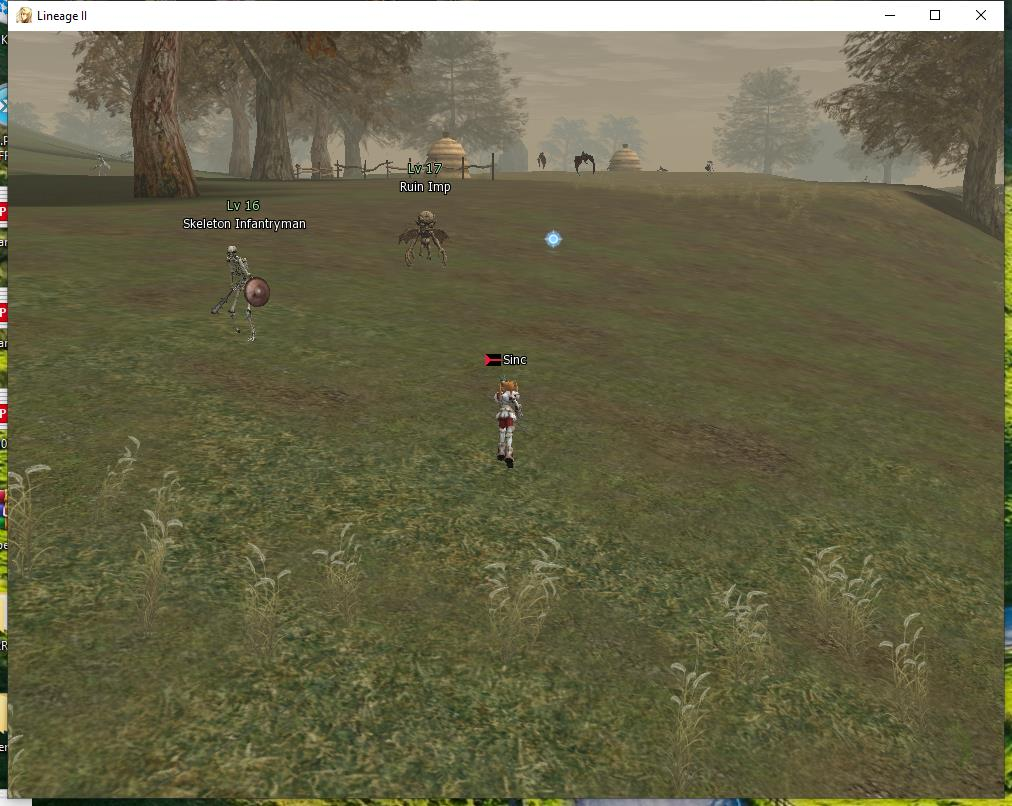monster: (172, 198, 308, 350), (385, 166, 470, 265), (570, 141, 602, 185), (532, 145, 551, 176)
